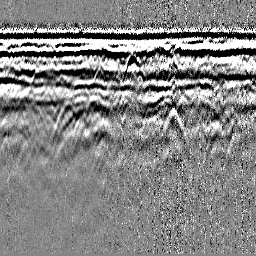cavity: (121, 50, 146, 82)
